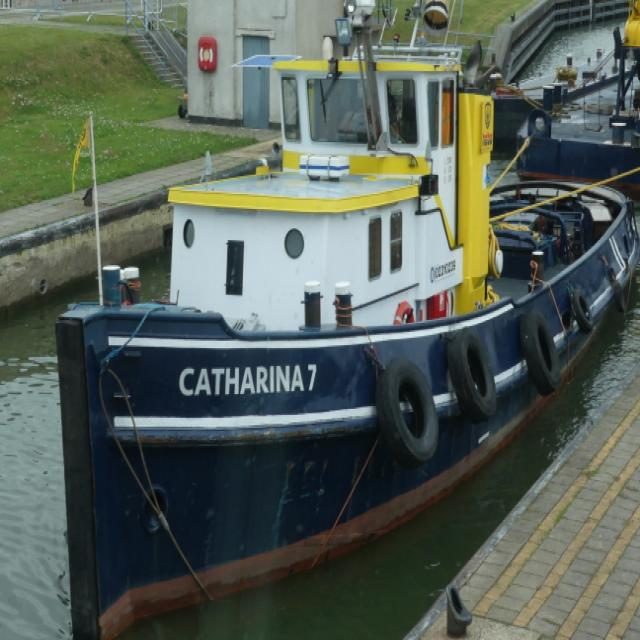tugboat: (48, 1, 640, 640)
